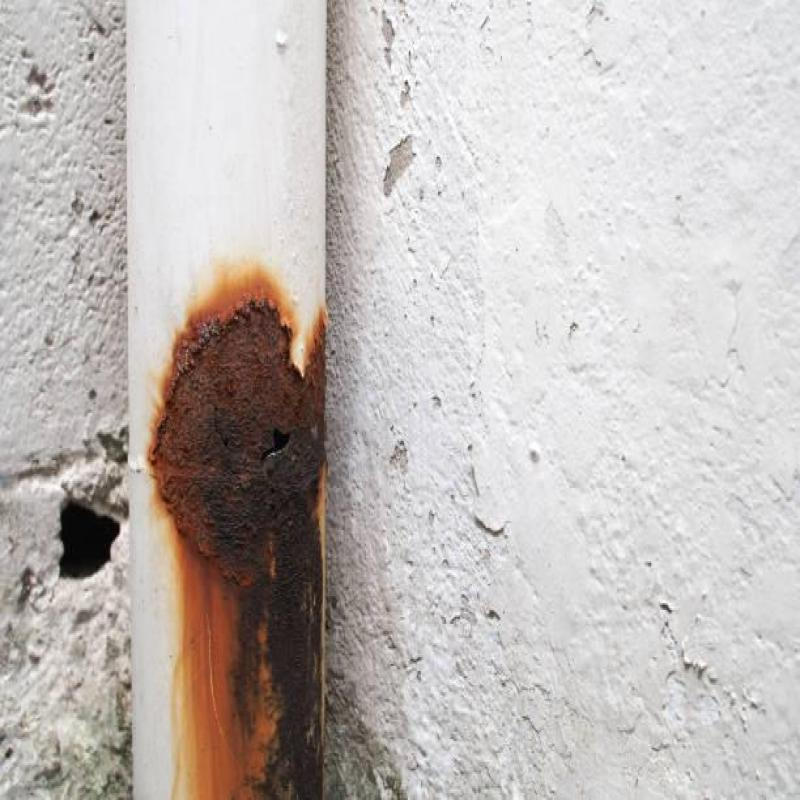Fracture: (211, 387, 304, 484)
corrosion: (165, 326, 327, 796)
